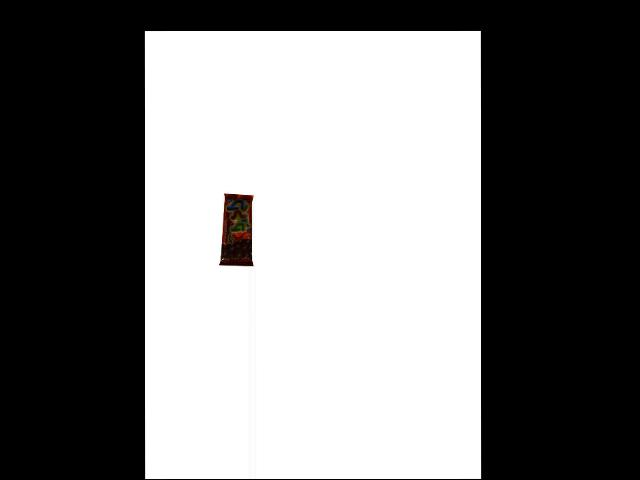chocolate: (220, 193, 253, 266)
